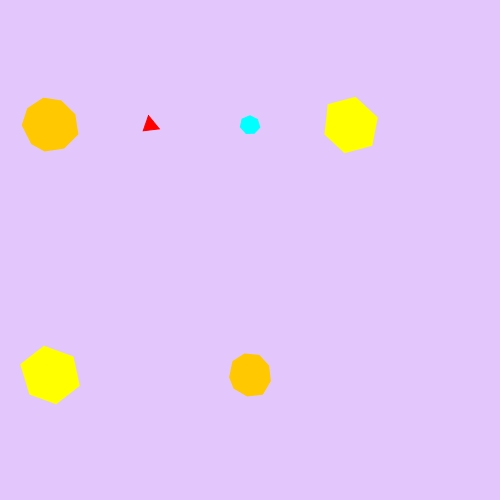heptagon: (236, 111, 265, 139)
hexagon: (16, 347, 85, 404), (317, 98, 384, 153)
nonagon: (19, 95, 82, 155), (224, 351, 276, 400)
triangle: (138, 112, 163, 138)
